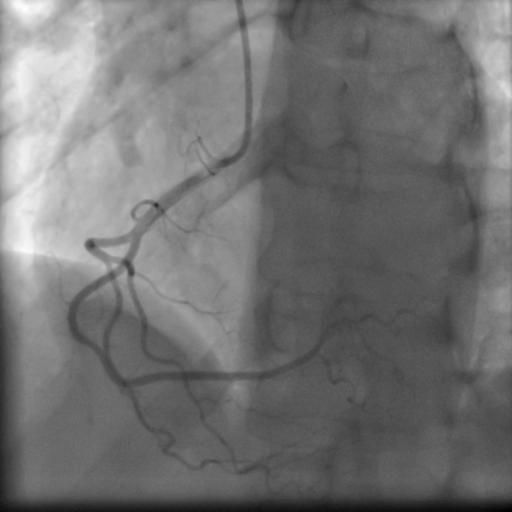Stenosis: (83, 329, 114, 379)
